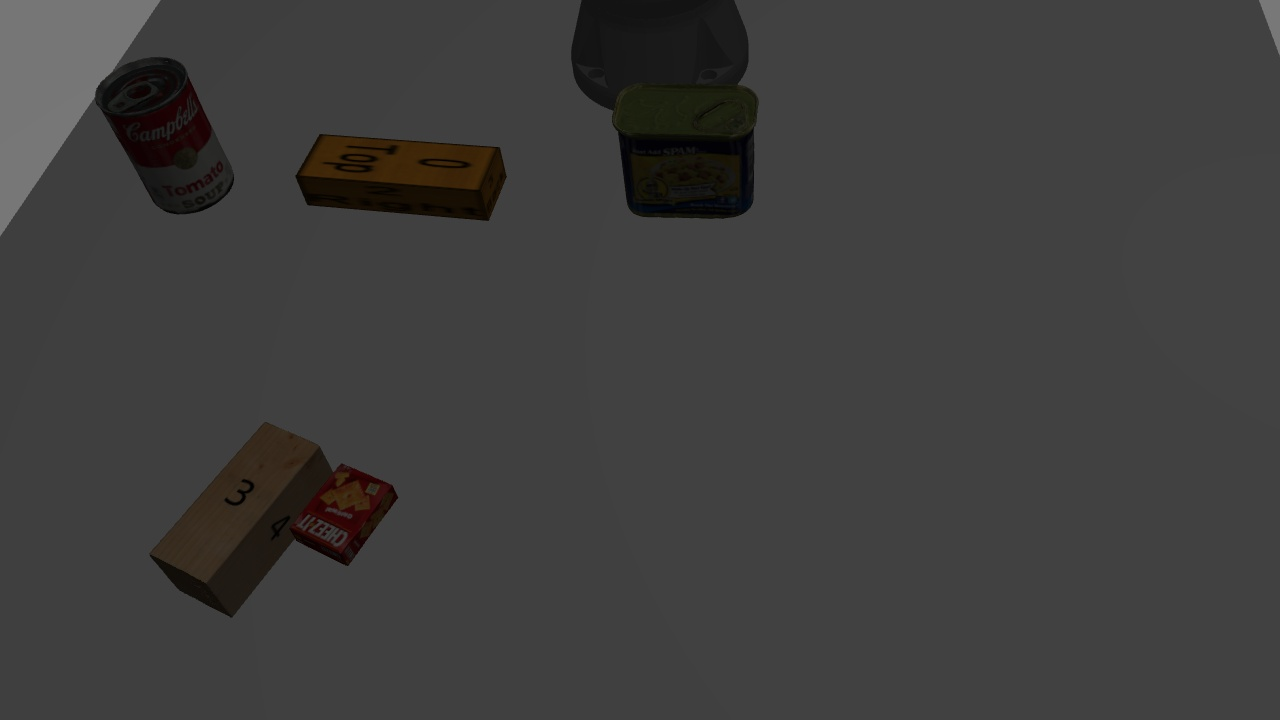cracker_box: (295, 460, 398, 563)
jenga: (290, 123, 512, 227)
potted_meat_can: (606, 75, 761, 223)
tomato_soup_can: (87, 51, 250, 219)
wood_block: (148, 413, 338, 621), (137, 400, 147, 401)
